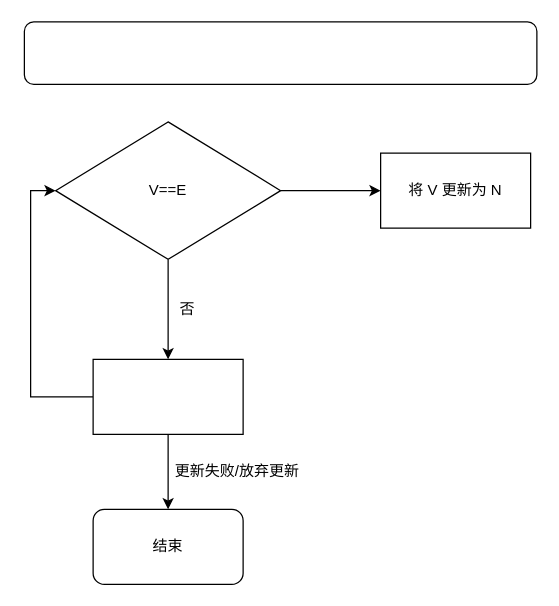
The diagram is 559 pixels wide and 606 high, and some of its shapes have lost their labels. The shapes that lost their labels are listed below. From the top down, each one's centre as x and y in pixels, then its label:
At pixel 280 52: "compareAndSwap(V,E,N)".
At pixel 167 396: "重新读取 V 的值 并赋值给 E".
